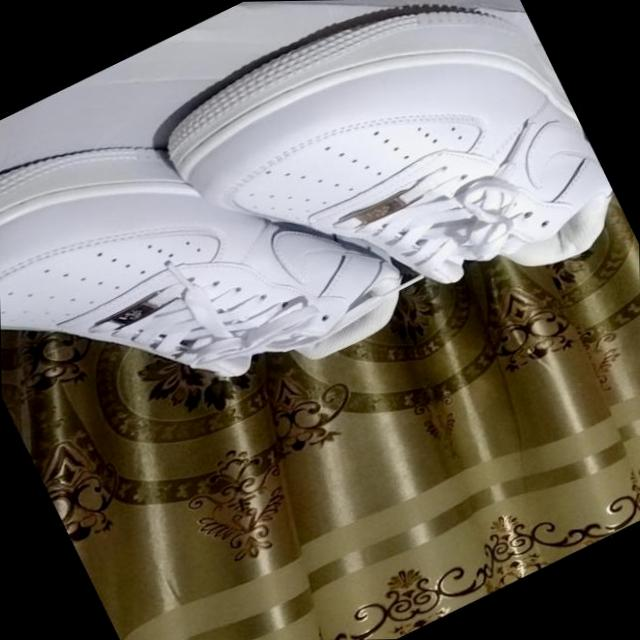nike_fake_airforce: (0, 0, 507, 497), (136, 0, 636, 406)
